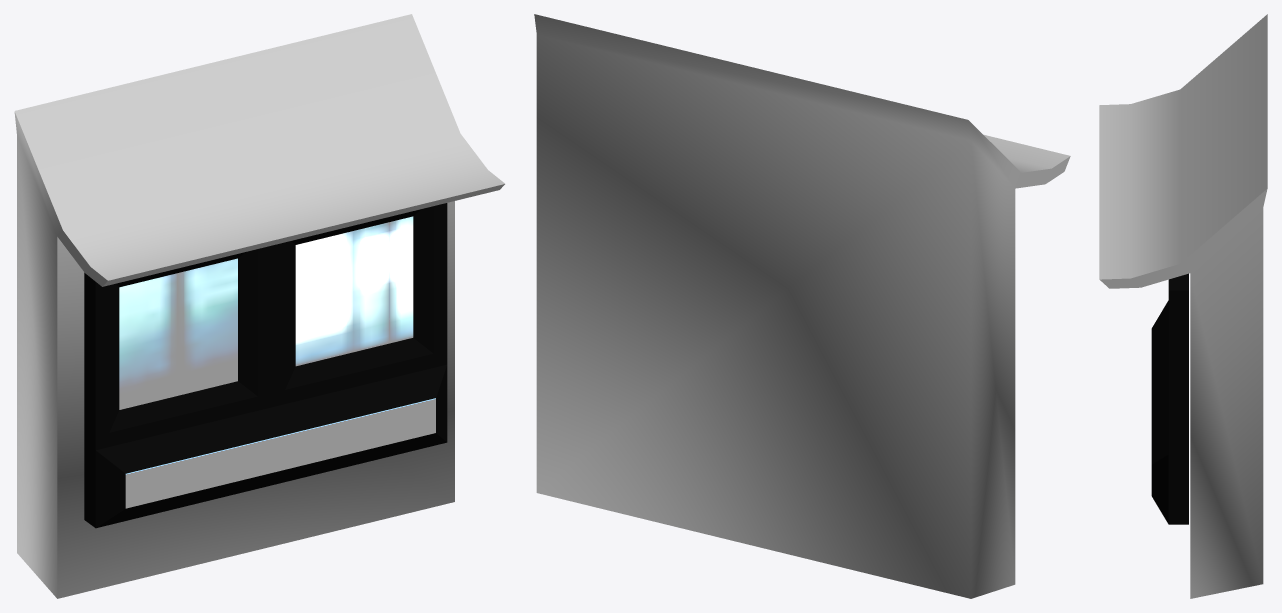
File: Wall_Module_07_Art.fbx
3 renders of one model, left to right at view 1: azimuth 30°, elevation 25°; view 2: azimuth 150°, elevation 25°; view 3: azimuth 270°, elevation 25°, orthographic. The views are drawn at different scales.
Visible parts, largest first — view 1: Wall_Module_07; view 2: Wall_Module_07; view 3: Wall_Module_07.
Part boxes in pixels (<box>): Wall_Module_07: <box>14,14,504,598</box>; Wall_Module_07: <box>534,14,1070,598</box>; Wall_Module_07: <box>1099,14,1267,598</box>.
Bounding box in the file's own units: 2.27 × 2.5 × 0.9268.
